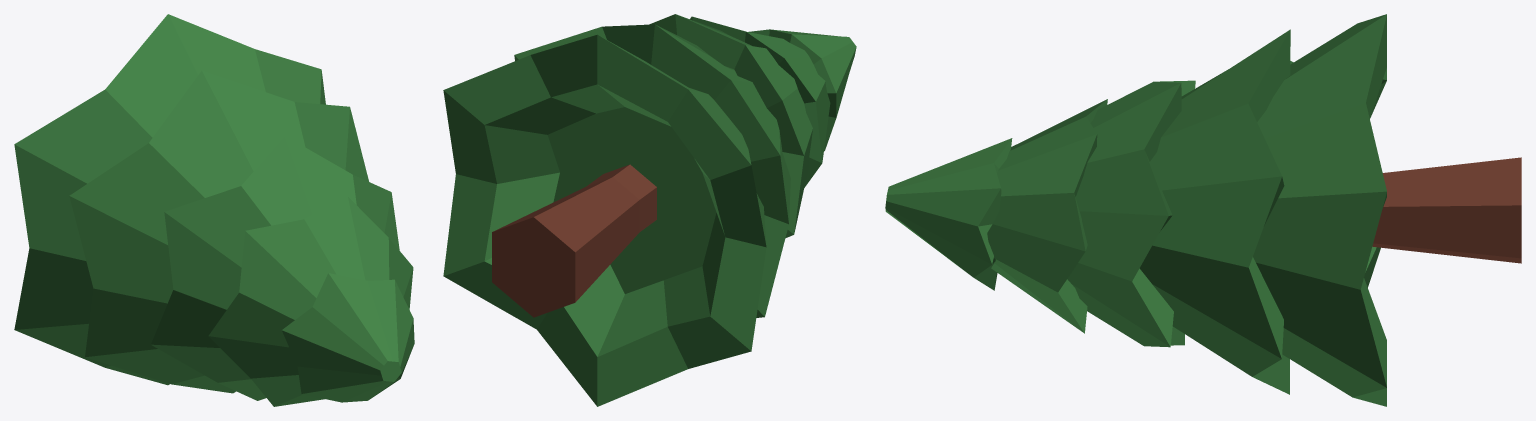
The model's file is tree.glb.
The picture shows the model from 3 angles, left to right: view 1: azimuth 30°, elevation 25°; view 2: azimuth 150°, elevation 25°; view 3: azimuth 270°, elevation 25°; orthographic projection. The views are drawn at different scales.
Visible parts, largest first — view 1: pine; view 2: pine; view 3: pine.
Part boxes in pixels (x1=…): pine: x1=14, y1=14, x2=414, y2=406; pine: x1=443, y1=14, x2=856, y2=406; pine: x1=885, y1=14, x2=1521, y2=406.
Size of the model in its own units: 3.87 by 4.47 by 6.55.
Materials: 1 (1 with a texture image).
